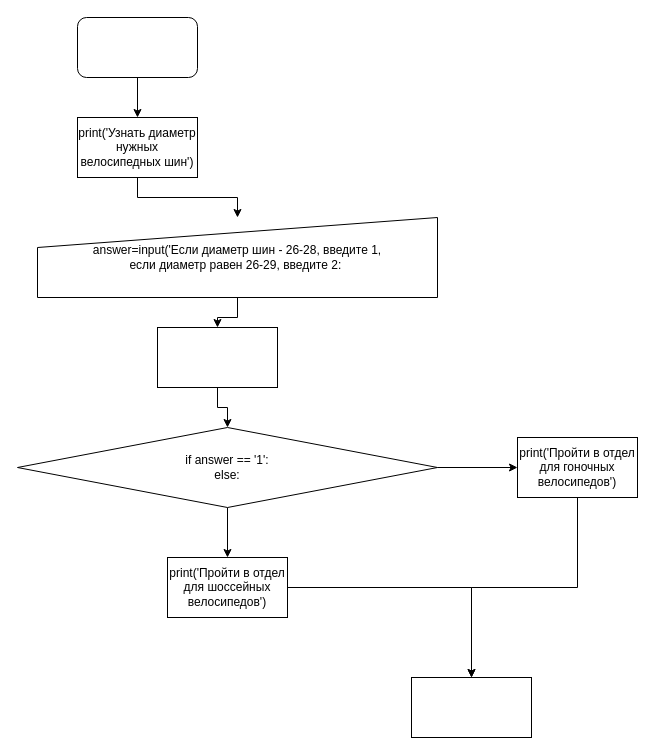
The diagram is 655 pixels wide and 755 high, and some of its shapes have lost their labels. The shapes that lost their labels are listed below. From the top down, each one's centre as x and y in pixels, then its label:
At point (137, 47): "start".
At point (217, 357): "print('Прийти в магазин')".
At point (471, 707): "print('Купить шины')".
